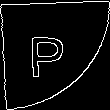P_N: (35, 29, 75, 81)
